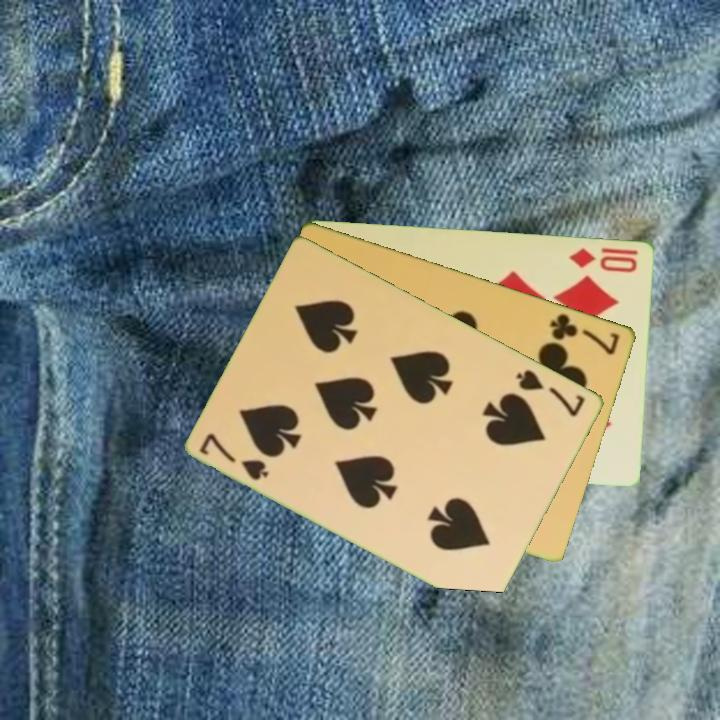10d: (566, 244, 641, 275)
7c: (547, 309, 623, 358)
7s: (196, 429, 273, 483), (513, 366, 589, 420)
